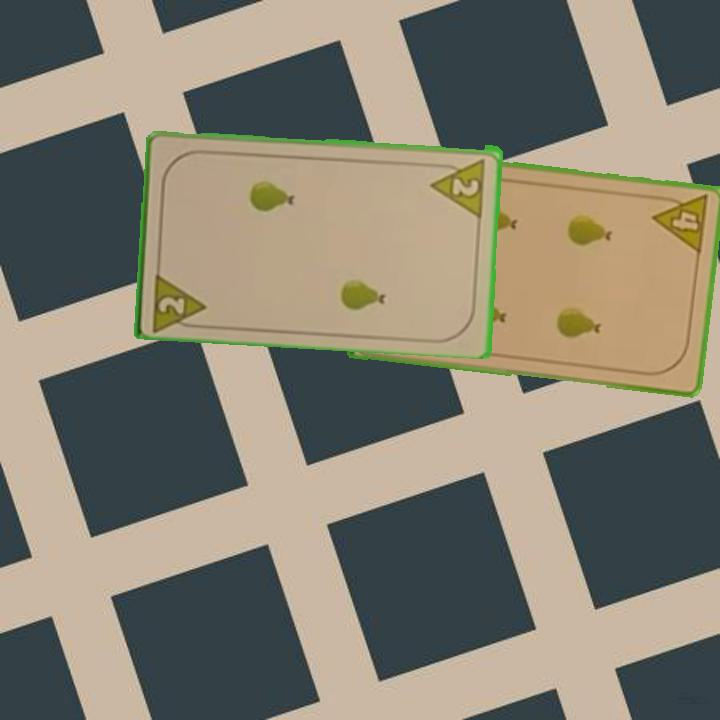2p: (428, 154, 489, 218), (154, 292, 188, 316)
4p: (649, 191, 712, 257)
